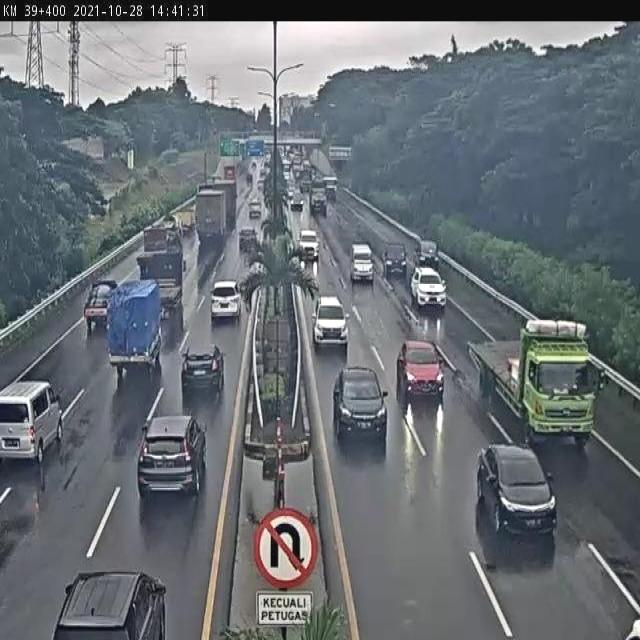Car: (41, 560, 161, 640), (477, 444, 557, 538), (136, 414, 207, 499), (1, 381, 65, 466), (334, 365, 388, 445), (396, 340, 446, 405), (180, 342, 224, 398), (312, 295, 349, 349), (82, 280, 119, 334), (410, 266, 448, 312), (210, 280, 242, 324), (350, 242, 374, 282), (382, 242, 408, 278), (416, 240, 440, 270), (298, 229, 319, 261), (238, 227, 258, 253), (310, 188, 327, 216), (323, 176, 338, 198), (248, 198, 262, 220), (289, 192, 304, 211), (300, 173, 312, 193), (282, 167, 292, 187), (292, 164, 303, 181), (285, 146, 296, 161), (310, 171, 320, 187), (282, 155, 292, 171), (286, 185, 294, 202), (264, 153, 271, 171), (303, 159, 312, 173), (258, 176, 265, 191), (259, 168, 266, 181), (246, 173, 252, 184), (251, 161, 256, 168)
Truck: (469, 315, 602, 451), (138, 222, 188, 334), (106, 280, 162, 379), (196, 184, 233, 249), (172, 209, 195, 238)
